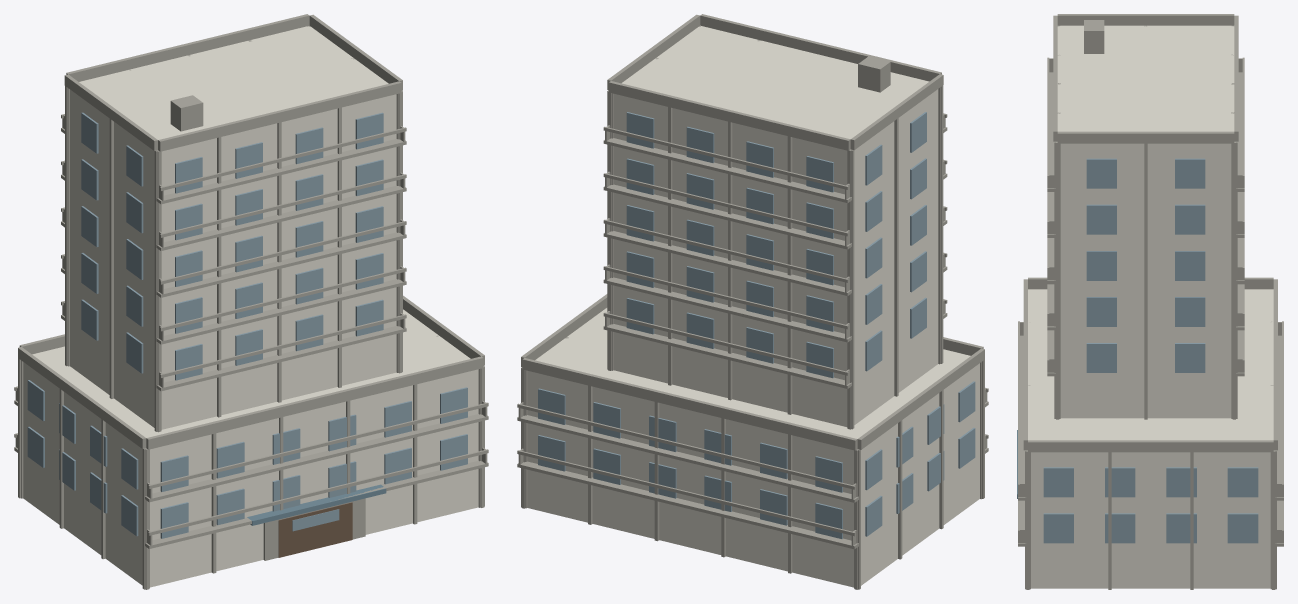
The model's file is residential_3x2_b.glb.
3 renders of one model, left to right at view 1: azimuth 30°, elevation 25°; view 2: azimuth 150°, elevation 25°; view 3: azimuth 270°, elevation 25°, orthographic.
Parts seen in each view (by area): view 1: residential_3x2_b_0; view 2: residential_3x2_b_0; view 3: residential_3x2_b_0.
Part boxes in pixels (x1,y1,x2,y2): residential_3x2_b_0: (14, 14, 488, 589); residential_3x2_b_0: (517, 14, 988, 589); residential_3x2_b_0: (1017, 14, 1283, 589).
Size of the model in its own units: 23 by 28.5 by 15.75.
